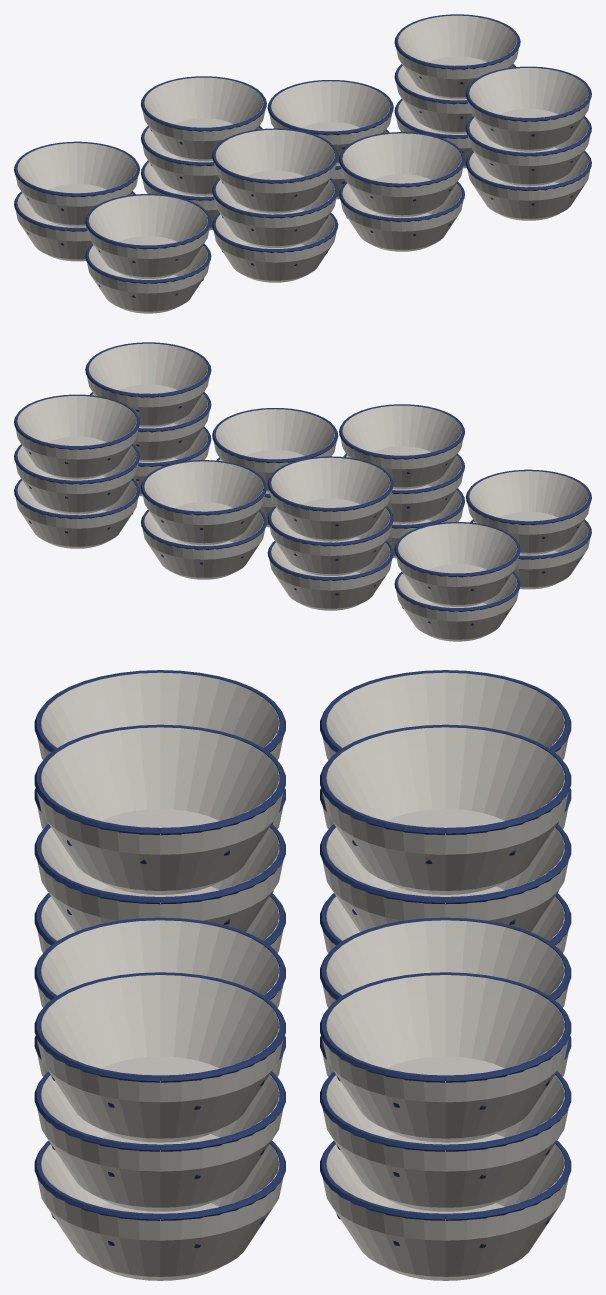
The model's file is painted.glb.
3 views of the same model, one above another, from view 1: azimuth 30°, elevation 25°; view 2: azimuth 150°, elevation 25°; view 3: azimuth 270°, elevation 25° (orthographic). The views are drawn at different scales.
Visible parts, largest first — view 1: painted; view 2: painted; view 3: painted.
Part boxes in pixels (x1,y1,x2,y2): painted: [14, 14, 591, 313]; painted: [14, 342, 591, 641]; painted: [34, 670, 571, 1280].
Size of the model in its own units: 0.7414 by 0.1634 by 0.3518.
